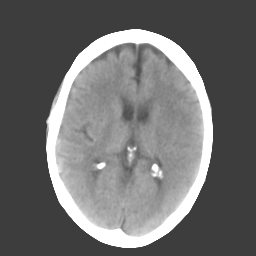ischemic: (163, 104, 203, 186)
